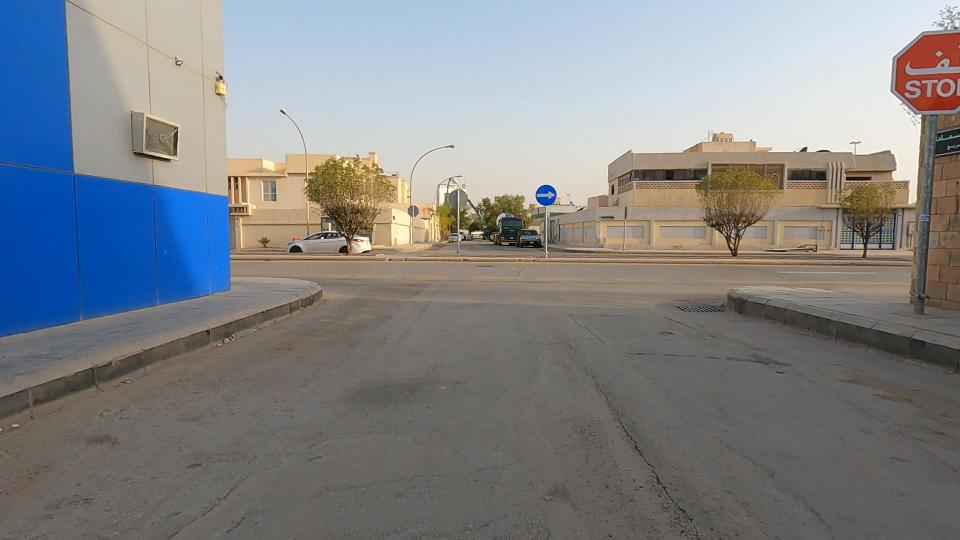POTHOLES: (555, 265, 880, 425), (542, 325, 732, 540)
